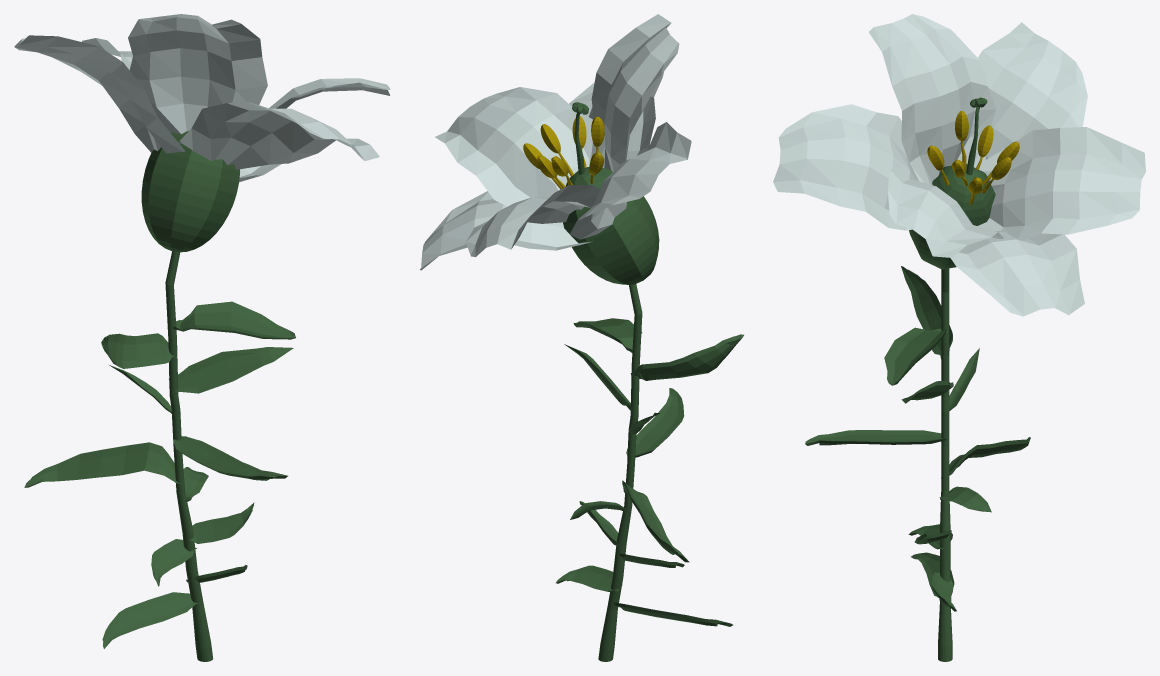
File: LilyFlowerFinal.fbx
3 renders of one model, left to right at view 1: azimuth 30°, elevation 25°; view 2: azimuth 150°, elevation 25°; view 3: azimuth 270°, elevation 25°, orthographic. The views are drawn at different scales.
Parts seen in each view (by area): view 1: LilyFlower; view 2: LilyFlower; view 3: LilyFlower.
Boxes of the visible parts, box(x1,y1,x2,y2) form: LilyFlower: box(14, 14, 390, 661); LilyFlower: box(420, 14, 743, 661); LilyFlower: box(773, 14, 1145, 661).
Bounding box in the file's own units: 45.99 × 92.43 × 50.39.
